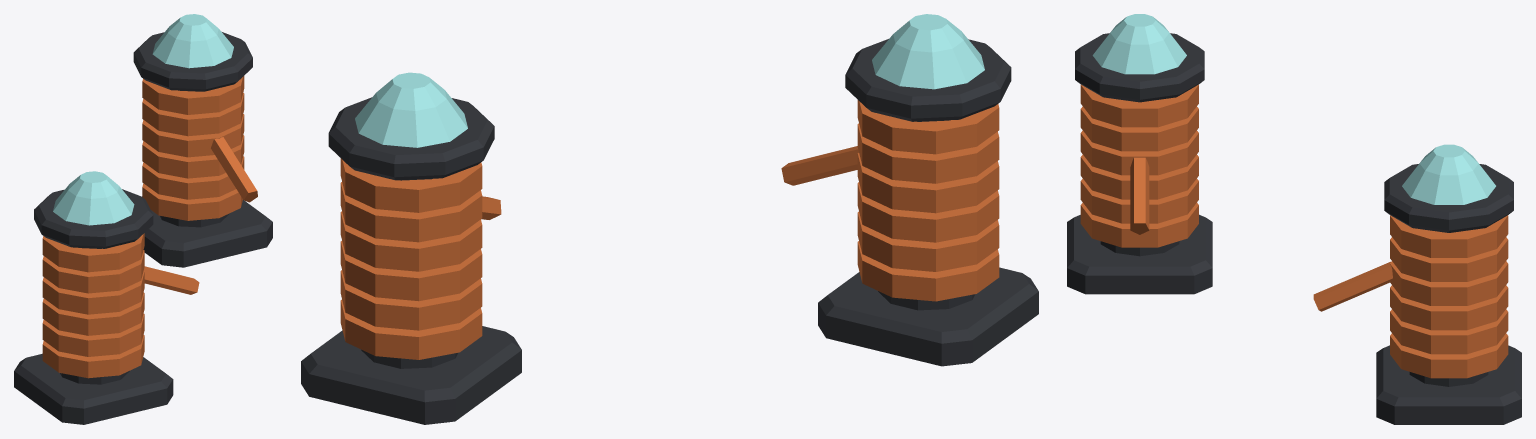
File: TeslaDressB1.obj
The picture shows the model from 3 angles, left to right: view 1: azimuth 30°, elevation 25°; view 2: azimuth 150°, elevation 25°; view 3: azimuth 270°, elevation 25°; orthographic projection. The views are drawn at different scales.
Visible parts, largest first — view 1: TeslaDressB1; view 2: TeslaDressB1; view 3: TeslaDressB1.
Part boxes in pixels (x1=…): TeslaDressB1: x1=14, y1=14, x2=272, y2=424; TeslaDressB1: x1=301, y1=14, x2=1038, y2=424; TeslaDressB1: x1=1067, y1=14, x2=1521, y2=424.
Bounding box in the file's own units: 1 × 0.59 × 1.
